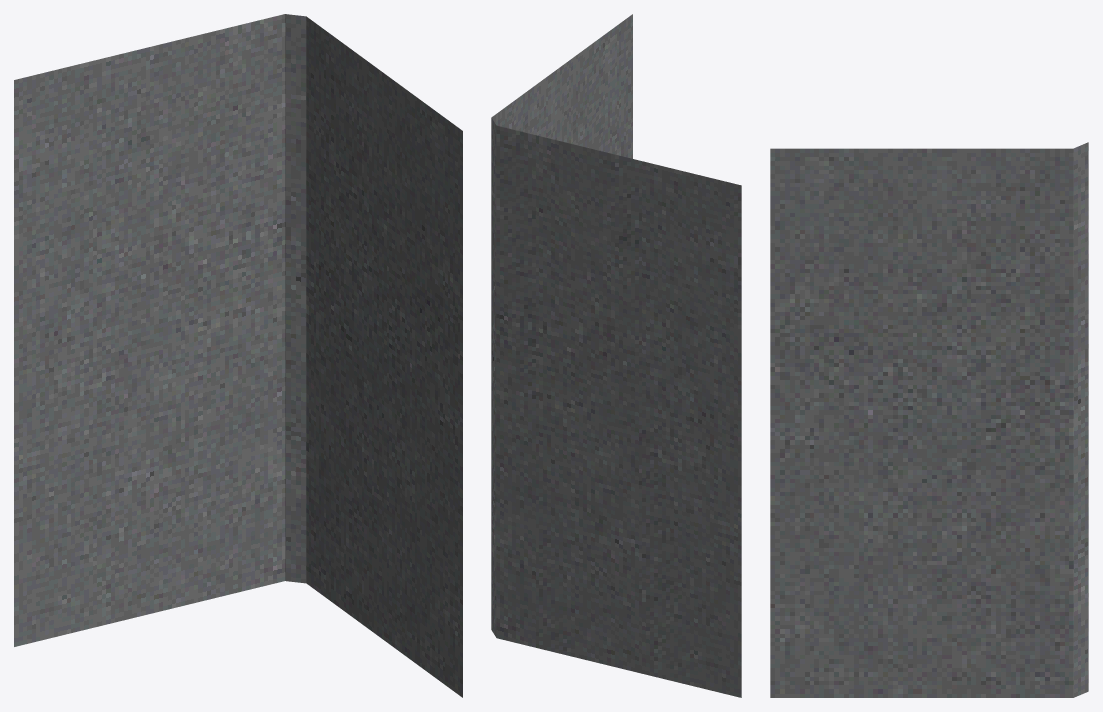
Rendered from wallTurnPlaster3.glb.
The picture shows the model from 3 angles, left to right: view 1: azimuth 30°, elevation 25°; view 2: azimuth 150°, elevation 25°; view 3: azimuth 270°, elevation 25°; orthographic projection. The views are drawn at different scales.
Parts seen in each view (by area): view 1: wallTurnPlaster3; view 2: wallTurnPlaster3; view 3: wallTurnPlaster3.
Boxes of the visible parts, x1,y1,x2,y2 form: wallTurnPlaster3: (14,14,462,697); wallTurnPlaster3: (491,14,741,697); wallTurnPlaster3: (770,142,1088,697).
Bounding box in the file's own units: 2.1 × 4 × 2.1.
Materials: 1 (1 with a texture image).
